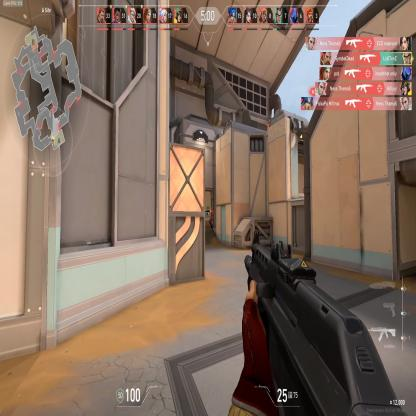enemy: (207, 205, 214, 230)
